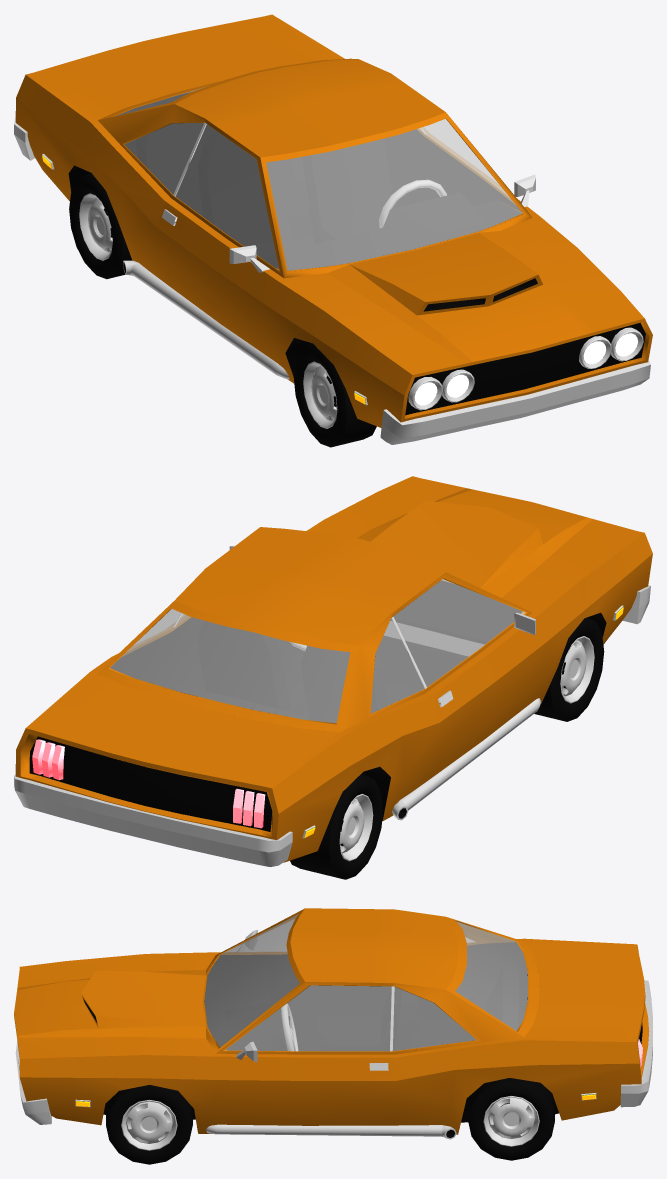
File: muscleCar.glb
The picture shows the model from 3 angles, top to bottom: view 1: azimuth 30°, elevation 25°; view 2: azimuth 150°, elevation 25°; view 3: azimuth 270°, elevation 25°; orthographic projection. The views are drawn at different scales.
Parts seen in each view (by area): view 1: Object_4, Object_9, Object_6, Object_5, Object_14, Object_8; view 2: Object_4, Object_9, Object_6, Object_5, Object_14, Object_7; view 3: Object_4, Object_6, Object_9, Object_5, Object_14.
Boxes of the visible parts, x1,y1,x2,y2 form: Object_4: [15, 14, 652, 427]; Object_9: [68, 92, 645, 415]; Object_6: [117, 87, 522, 270]; Object_5: [14, 117, 650, 444]; Object_14: [69, 173, 376, 447]; Object_8: [414, 333, 637, 405]; Object_4: [15, 476, 652, 862]; Object_9: [29, 580, 606, 845]; Object_6: [110, 579, 525, 723]; Object_5: [14, 545, 650, 866]; Object_14: [290, 617, 604, 879]; Object_7: [32, 739, 265, 828]; Object_4: [14, 908, 649, 1134]; Object_6: [204, 914, 527, 1051]; Object_9: [83, 942, 642, 1137]; Object_5: [15, 929, 652, 1150]; Object_14: [106, 998, 554, 1164].
Bounding box in the file's own units: 5.46 × 3.6 × 12.16.
